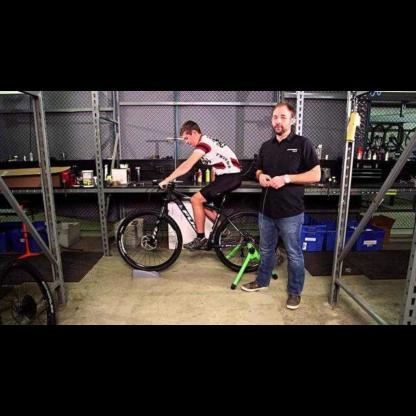Bicycle: (96, 160, 284, 288)
